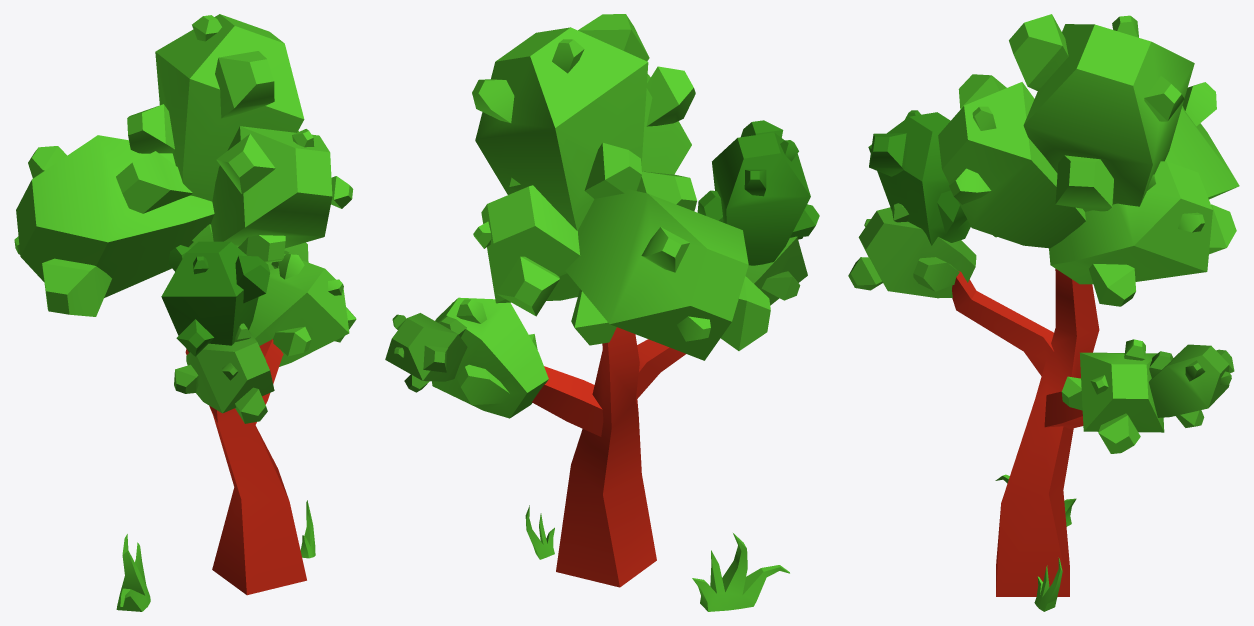
Rendered from Tree.obj.
3 renders of one model, left to right at view 1: azimuth 30°, elevation 25°; view 2: azimuth 150°, elevation 25°; view 3: azimuth 270°, elevation 25°, orthographic. The views are drawn at different scales.
Parts seen in each view (by area): view 1: BranchesCBranchesuBranchesbBrancheseBranches.Branches0BrancBran; view 2: BranchesCBranchesuBranchesbBrancheseBranches.Branches0BrancBran; view 3: BranchesCBranchesuBranchesbBrancheseBranches.Branches0BrancBran.
Part boxes in pixels (x1,y1,x2,y2): BranchesCBranchesuBranchesbBrancheseBranches.Branches0BrancBran: (14,14,356,611); BranchesCBranchesuBranchesbBrancheseBranches.Branches0BrancBran: (385,14,819,611); BranchesCBranchesuBranchesbBrancheseBranches.Branches0BrancBran: (848,14,1239,611).
Bounding box in the file's own units: 10.59 × 16.8 × 10.6.
